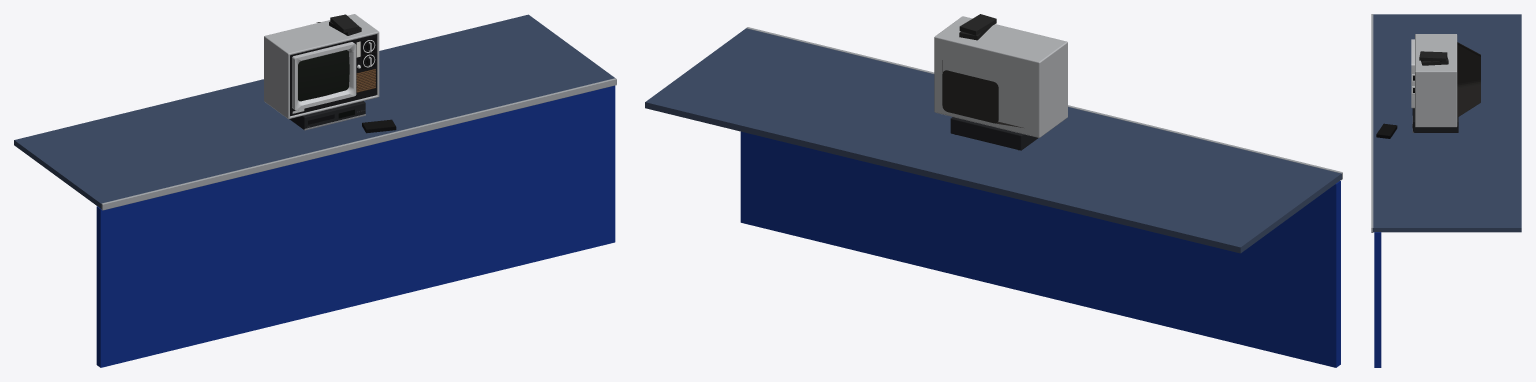
Rendered from set.glb.
The picture shows the model from 3 angles, left to right: view 1: azimuth 30°, elevation 25°; view 2: azimuth 150°, elevation 25°; view 3: azimuth 270°, elevation 25°; orthographic projection. The views are drawn at different scales.
Visible parts, largest first — view 1: Counter_Front, Counter_Top, TV_Cabinet, Counter_Edge, TV_Screen, TV_Bezel, TV_FrontPlate, VCR_Body; view 2: Counter_Front, Counter_Top, TV_Cabinet, TV_Back, VCR_Body, Counter_Edge; view 3: Counter_Top, TV_Cabinet, TV_Back, Counter_Front, Counter_Edge, VCR_Body, Tape_1, TV_Bezel, Cassette_Top.
Boxes of the visible parts, x1,y1,x2,y2 form: Counter_Front: [96, 85, 615, 367]; Counter_Top: [14, 14, 614, 208]; TV_Cabinet: [264, 14, 379, 119]; Counter_Edge: [101, 78, 616, 210]; TV_Screen: [298, 50, 349, 101]; TV_Bezel: [292, 42, 356, 110]; TV_FrontPlate: [290, 34, 376, 116]; VCR_Body: [289, 101, 365, 129]; Counter_Front: [740, 131, 1340, 367]; Counter_Top: [645, 28, 1341, 253]; TV_Cabinet: [934, 16, 1067, 137]; TV_Back: [942, 60, 1023, 127]; VCR_Body: [950, 117, 1037, 150]; Counter_Edge: [746, 27, 1342, 180]; Counter_Top: [1373, 14, 1521, 232]; TV_Cabinet: [1415, 34, 1457, 127]; TV_Back: [1457, 42, 1480, 117]; Counter_Front: [1374, 232, 1381, 367]; Counter_Edge: [1371, 14, 1373, 232]; VCR_Body: [1413, 108, 1458, 132]; Tape_1: [1419, 51, 1447, 61]; TV_Bezel: [1411, 39, 1414, 108]; Cassette_Top: [1377, 123, 1396, 135].
Bounding box in the file's own units: 3.6 × 1.69 × 1.07.
